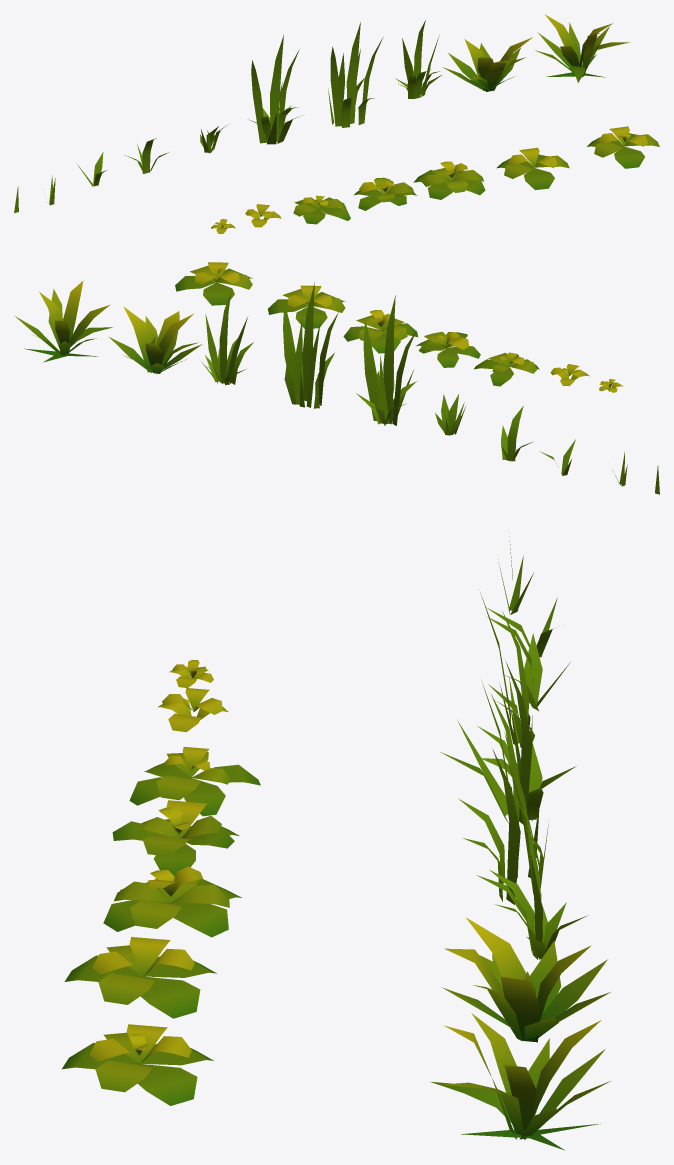
File: grass.fbx
3 views of the same model, one above another, from view 1: azimuth 30°, elevation 25°; view 2: azimuth 150°, elevation 25°; view 3: azimuth 270°, elevation 25° (orthographic). The views are drawn at different scales.
Parts seen in each view (by area): view 1: grass_11, grass_12, grass_08, grass_09, grass_03, grass_01, grass_02, grass_04, grass_10, grass_05, grass_06, grass_14; view 2: grass_11, grass_12, grass_09, grass_08, grass_01, grass_10, grass_02, grass_03, grass_04, grass_05, grass_13, grass_14 (+1 smaller); view 3: grass_09, grass_08, grass_01, grass_02, grass_03, grass_04, grass_05, grass_12, grass_11, grass_10, grass_06, grass_14.
Part boxes in pixels (x1,y1,x2,y2): grass_11: [328, 22, 383, 127]; grass_12: [248, 35, 299, 144]; grass_08: [535, 14, 629, 82]; grass_09: [442, 37, 532, 91]; grass_03: [413, 161, 485, 199]; grass_01: [587, 126, 659, 168]; grass_02: [496, 147, 569, 189]; grass_04: [354, 177, 416, 210]; grass_10: [395, 20, 442, 99]; grass_05: [293, 195, 350, 224]; grass_06: [245, 204, 281, 227]; grass_14: [125, 138, 168, 173]; grass_11: [283, 282, 338, 408]; grass_12: [356, 295, 416, 425]; grass_09: [109, 306, 202, 374]; grass_08: [15, 281, 112, 362]; grass_01: [175, 262, 252, 305]; grass_10: [201, 291, 253, 385]; grass_02: [268, 285, 345, 328]; grass_03: [343, 310, 418, 353]; grass_04: [416, 331, 480, 367]; grass_05: [474, 352, 539, 386]; grass_13: [435, 394, 465, 435]; grass_14: [501, 406, 532, 461]; grass_09: [441, 917, 610, 1042]; grass_08: [431, 1013, 610, 1150]; grass_01: [62, 1024, 213, 1105]; grass_02: [64, 937, 216, 1018]; grass_03: [103, 866, 241, 937]; grass_04: [112, 800, 239, 875]; grass_05: [129, 747, 260, 816]; grass_12: [440, 592, 576, 824]; grass_11: [458, 681, 548, 904]; grass_10: [476, 791, 588, 959]; grass_06: [158, 688, 228, 732]; grass_14: [487, 617, 569, 710].
Bounding box in the file's own units: 13.26 × 2.6 × 5.21.
